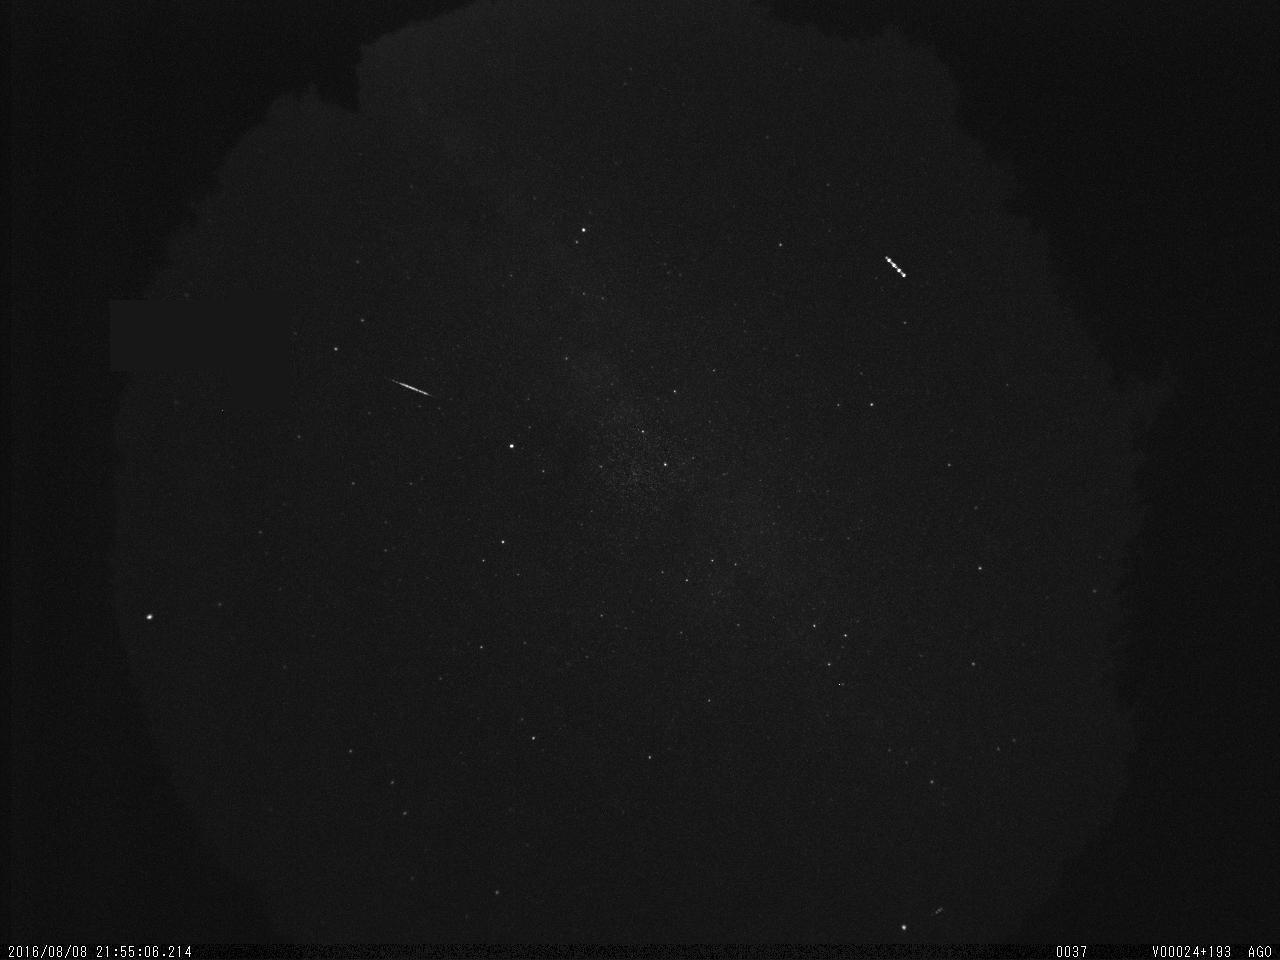Meteor: (388, 375, 431, 396)
